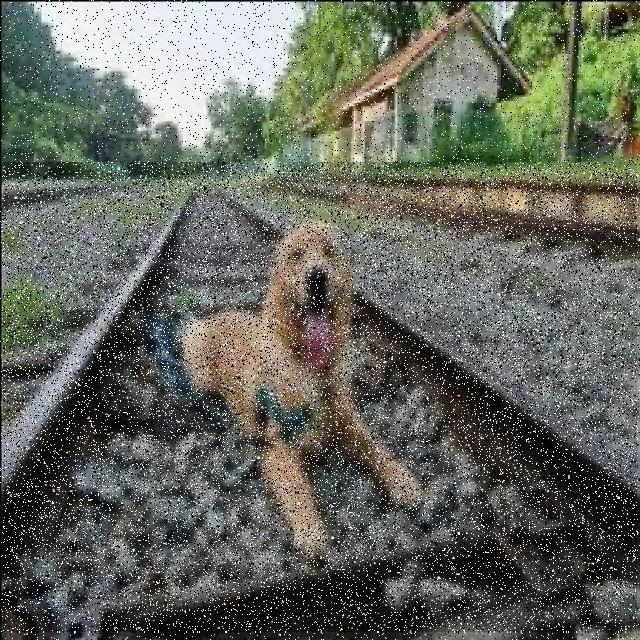rail: (4, 164, 638, 633)
